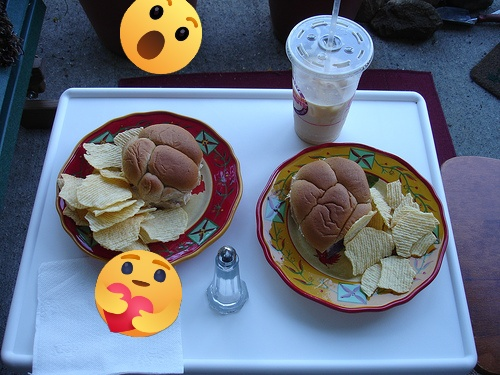care: (95, 250, 182, 337)
wow: (120, 0, 202, 74)
